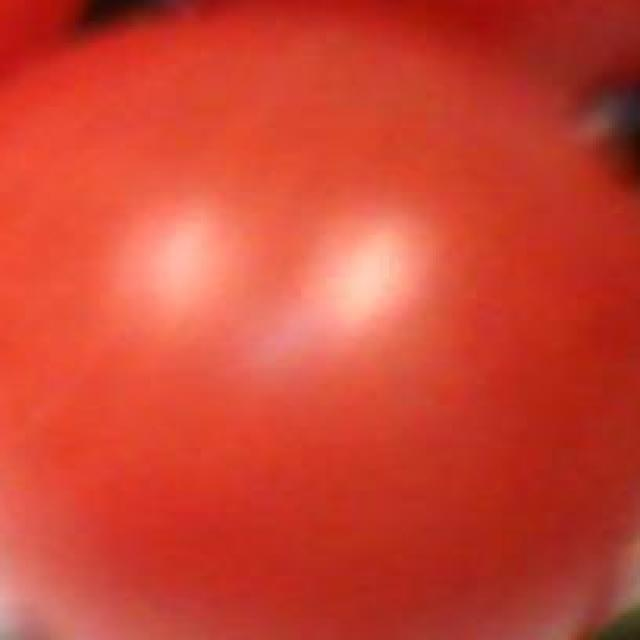Healthy: (2, 12, 639, 640)
